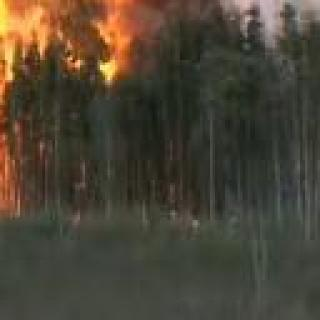fire: (72, 0, 154, 78), (0, 0, 27, 205)
